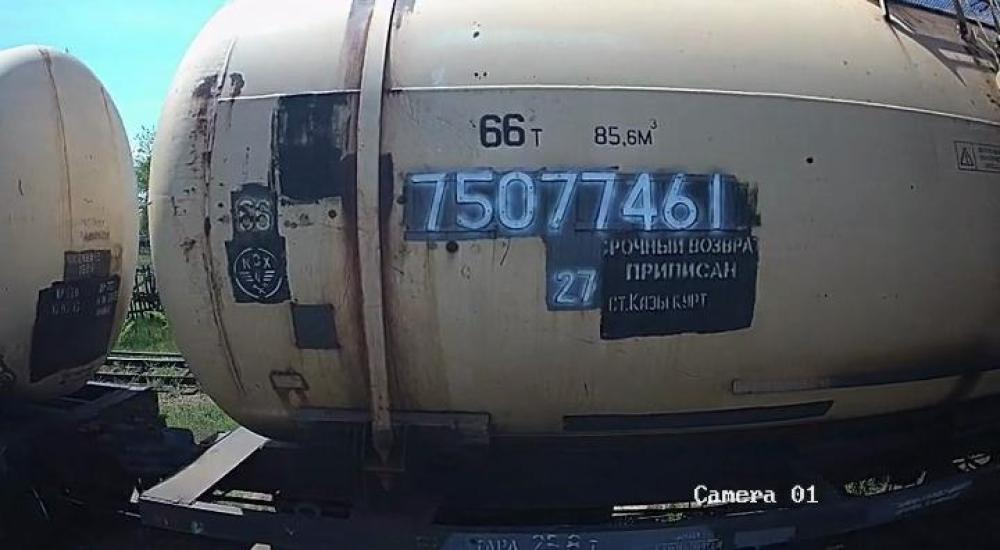Wagon-number: (407, 167, 737, 236)
